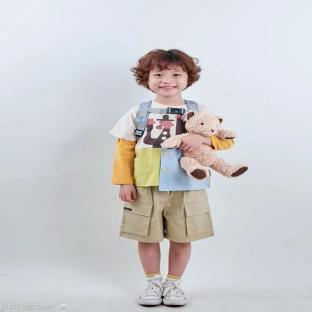Human: (110, 49, 214, 305), (181, 136, 233, 151)
